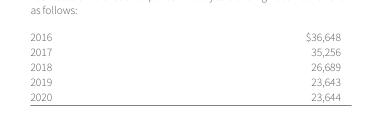table: (29, 28, 340, 103)
table column: (178, 28, 340, 103), (29, 28, 178, 103)
table row: (29, 28, 340, 43), (29, 43, 340, 58), (29, 58, 340, 73), (29, 73, 340, 88), (29, 88, 340, 103)
